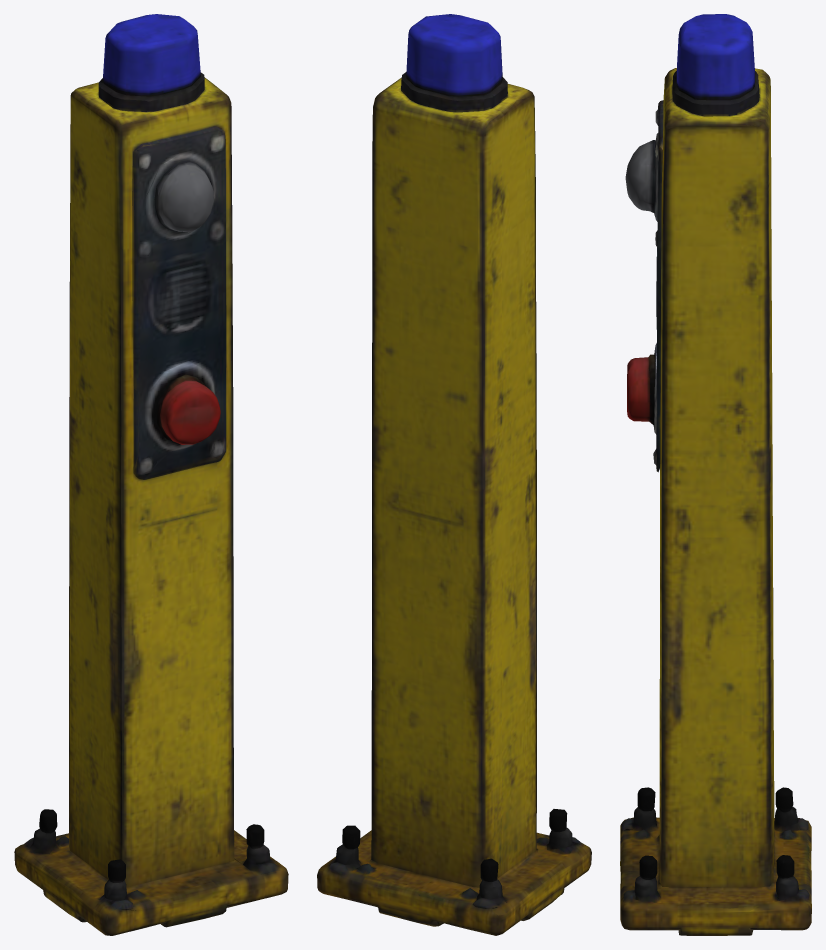
The model's file is p7-emergency-call-point.glb.
3 renders of one model, left to right at view 1: azimuth 30°, elevation 25°; view 2: azimuth 150°, elevation 25°; view 3: azimuth 270°, elevation 25°, orthographic.
Parts seen in each view (by area): view 1: p7-emergency-call-point; view 2: p7-emergency-call-point; view 3: p7-emergency-call-point.
Part boxes in pixels (box(x1,y1,x2,y2)): p7-emergency-call-point: box(14, 14, 288, 935); p7-emergency-call-point: box(317, 14, 591, 935); p7-emergency-call-point: box(620, 14, 811, 935).
Bounding box in the file's own units: 0.3631 × 1.6 × 0.3222.
1 material, 1 textured.
